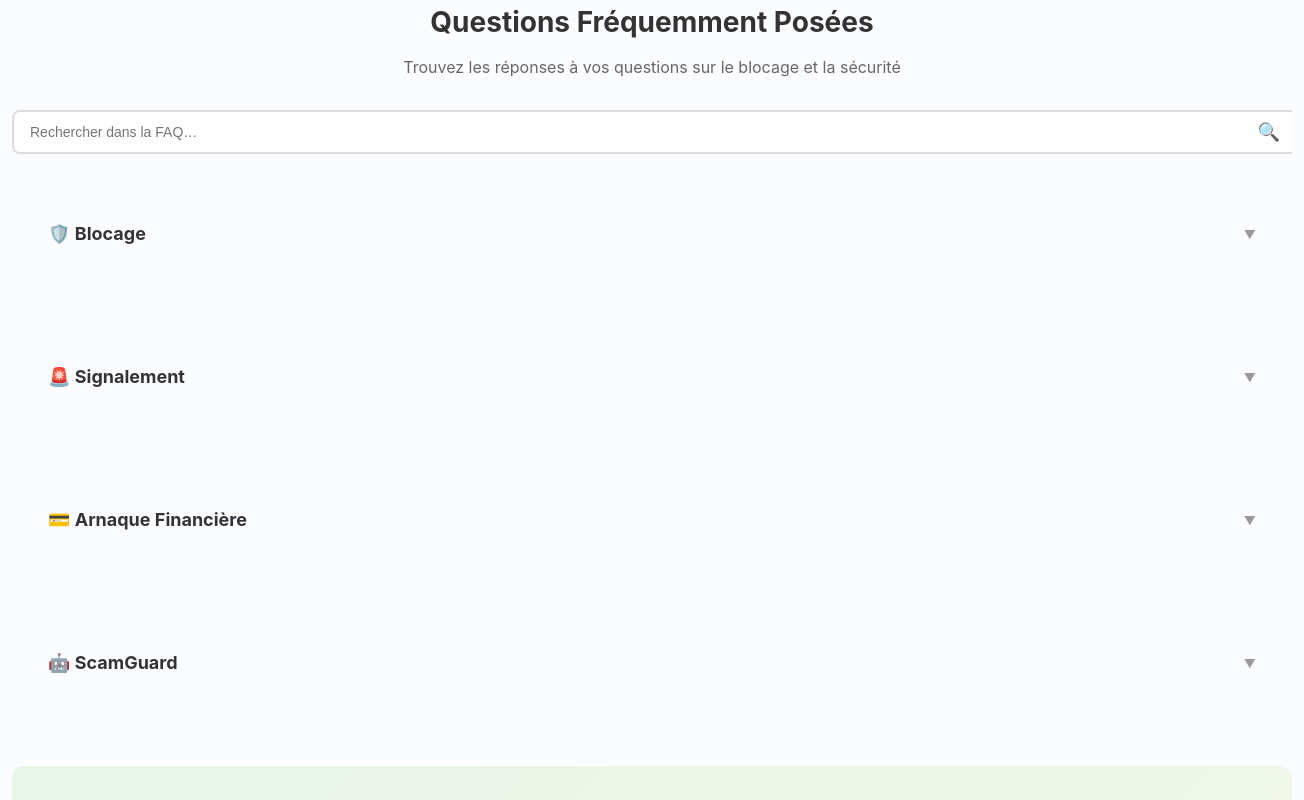
FAQSection › Empty State › shows no results when search returns empty
Step 1. Type "nonexistentquery123" into the field with class "search-input" → point(652, 132), box top-left (12, 110), bottom-right (1292, 154)
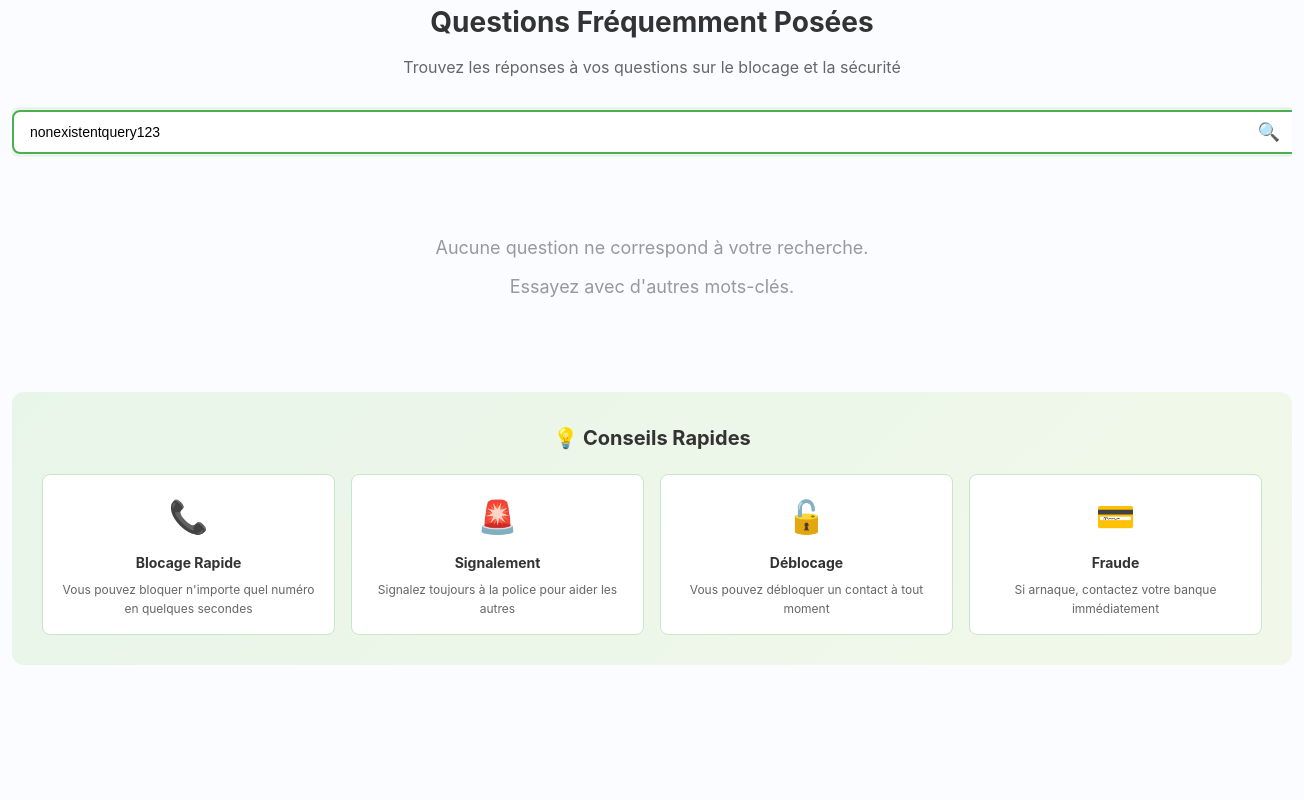
Check: the text "Aucune question ne correspond à votre recherche." is shown, box top-left (436, 237), bottom-right (868, 258)
Check: the text "Essayez avec d'autres mots-clés." is shown, box top-left (510, 276), bottom-right (794, 297)
